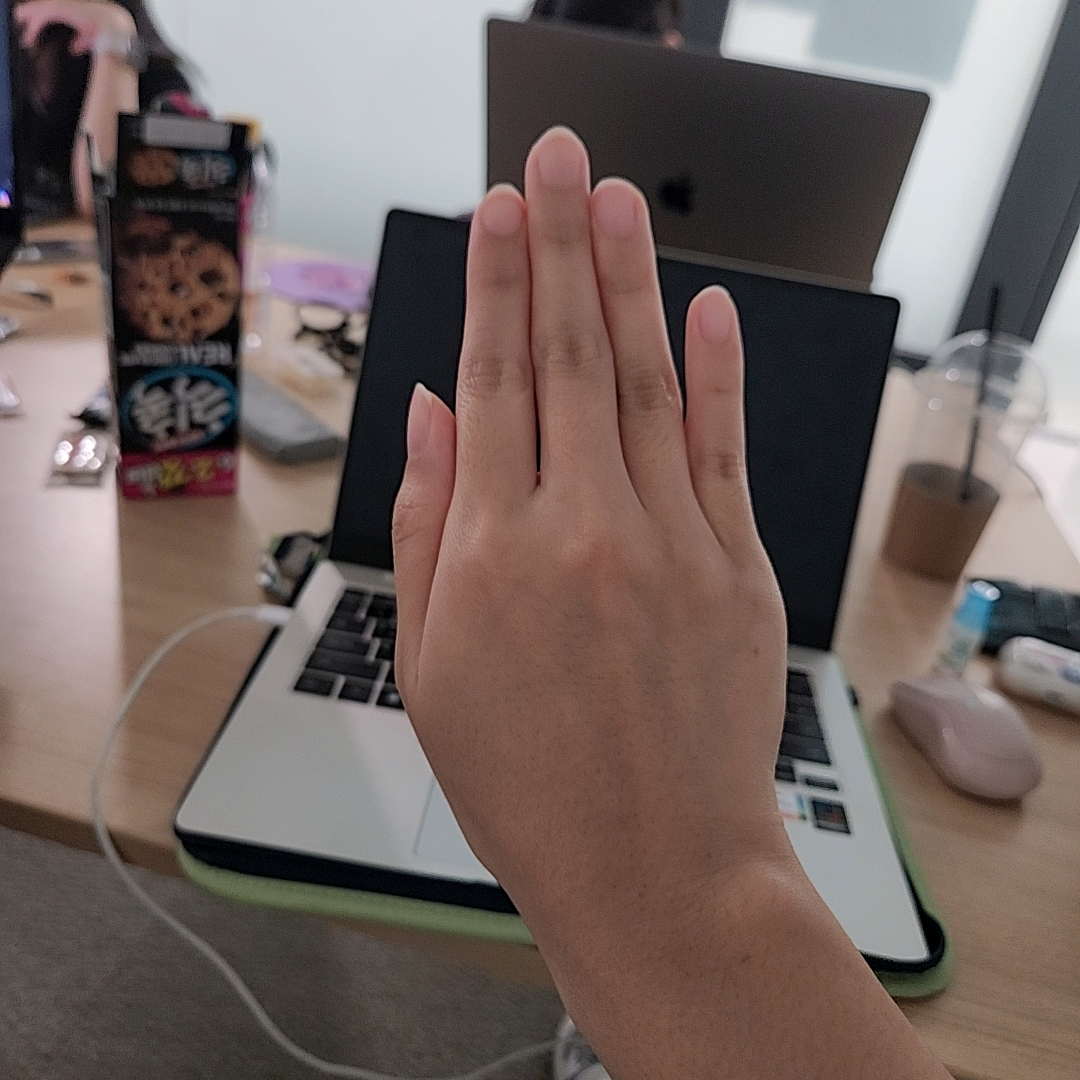me: (388, 124, 789, 892)
